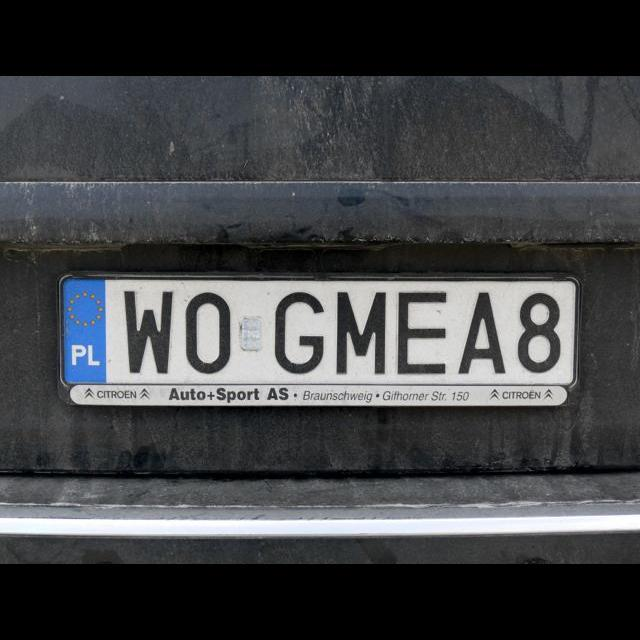license-plates: (61, 277, 579, 406)
